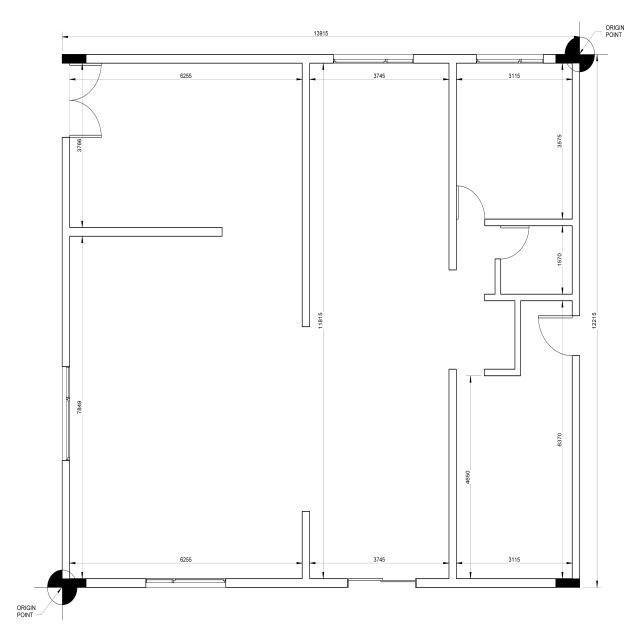Column: (556, 54, 581, 64), (555, 578, 580, 588), (62, 54, 86, 64), (62, 579, 87, 588)
Door: (536, 316, 582, 358), (456, 184, 486, 230), (490, 227, 530, 260)
Double-Door: (61, 62, 106, 139)
Sliding Door: (346, 578, 416, 589)
Window: (60, 366, 72, 462), (145, 578, 227, 589), (332, 54, 415, 64), (475, 54, 545, 64)
